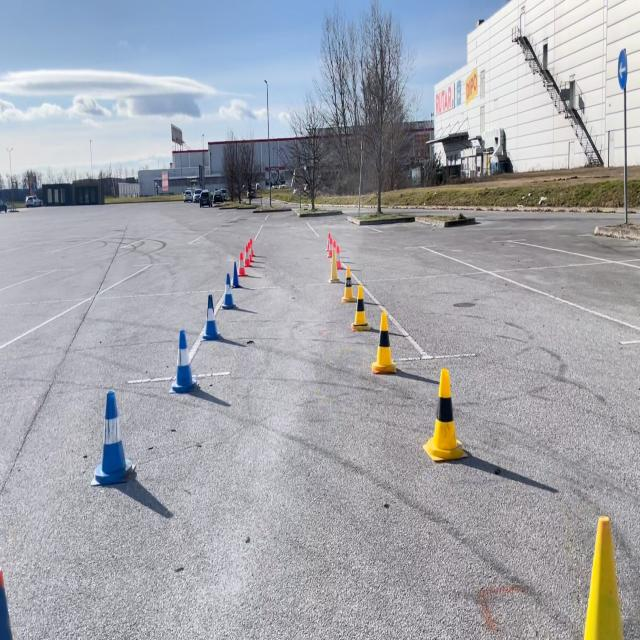blue_cone: (91, 388, 134, 486), (0, 570, 34, 640), (169, 326, 199, 393), (200, 291, 222, 340), (616, 48, 630, 88), (224, 265, 234, 313), (229, 259, 241, 288)
orange_cone: (327, 238, 341, 282), (332, 240, 343, 270), (237, 250, 246, 276), (246, 236, 255, 262), (326, 230, 332, 262)
yellow_cone: (538, 512, 640, 639), (422, 365, 466, 462), (370, 309, 398, 374), (351, 277, 369, 332), (340, 266, 356, 303)
